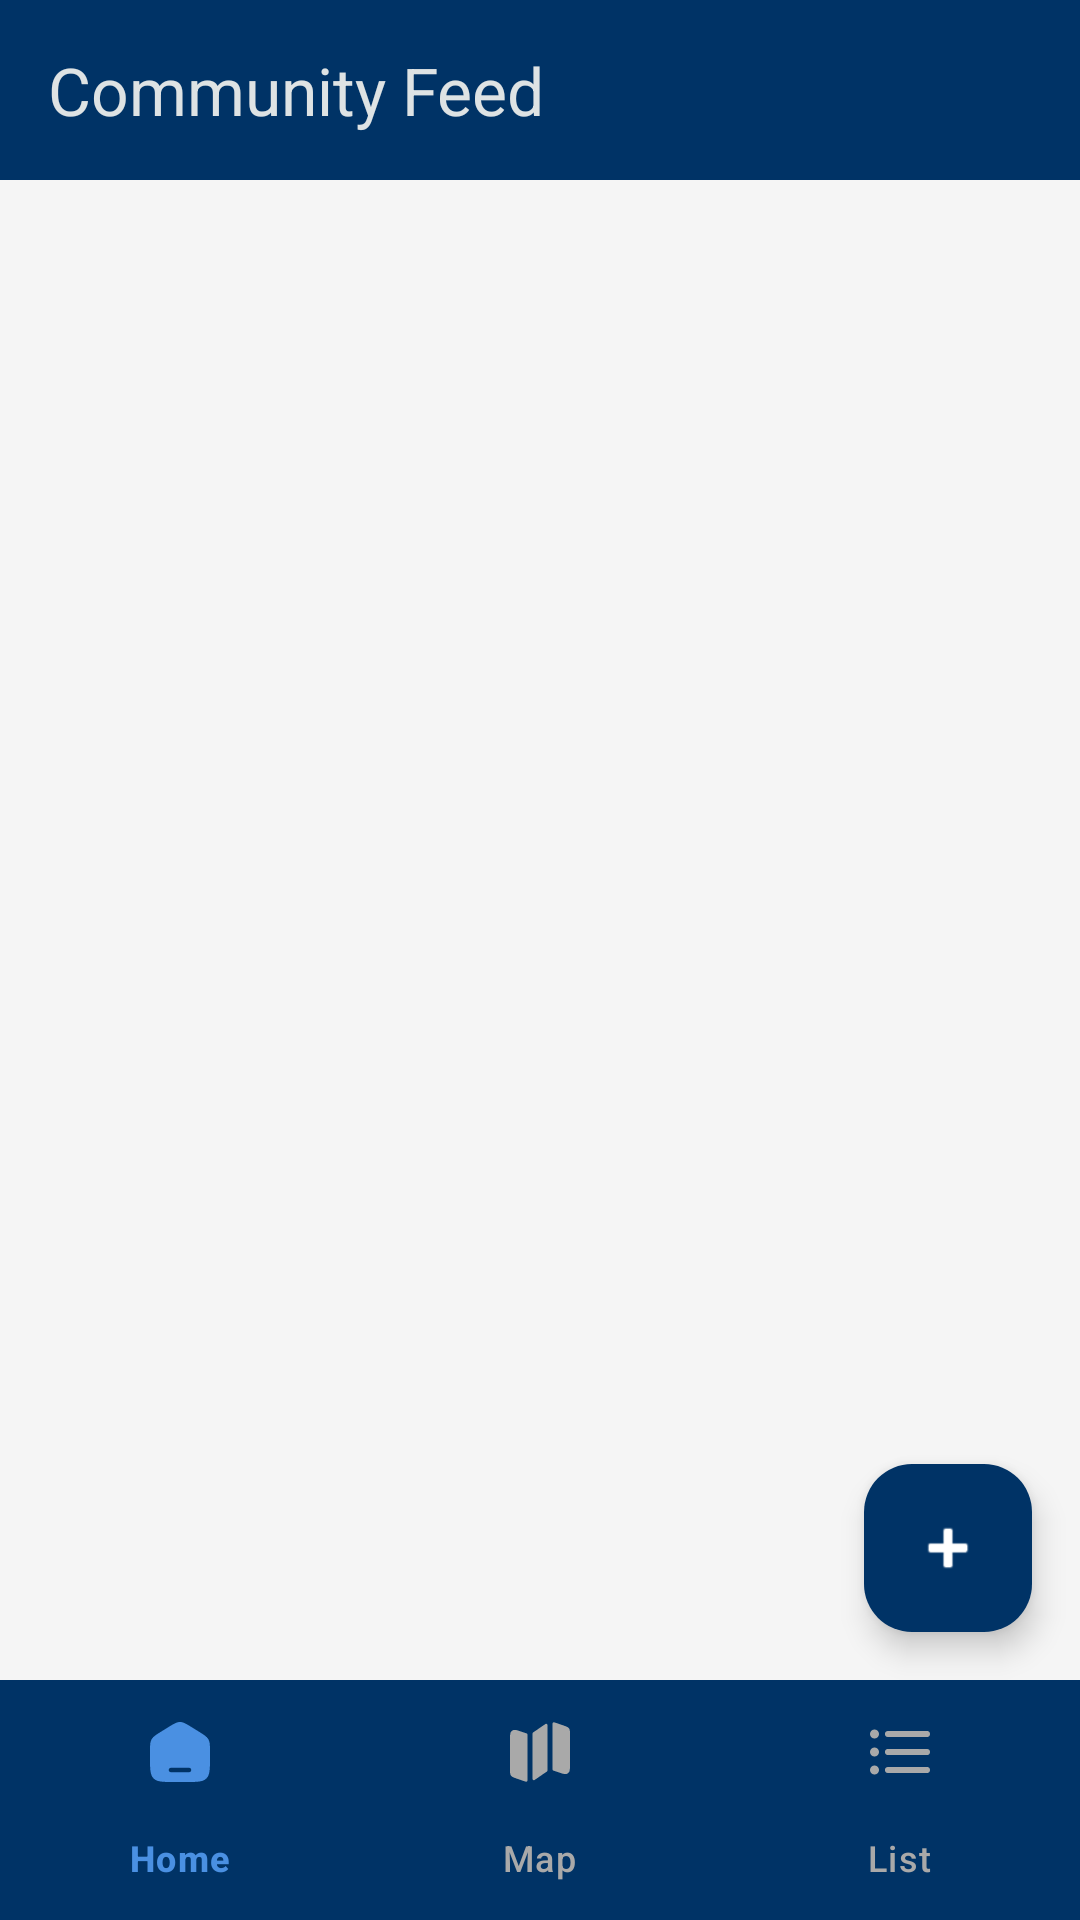

Where to tap for icons on this 1080px x 1920px app screen, as (x,y):
Add Tweet: (948,1548)
